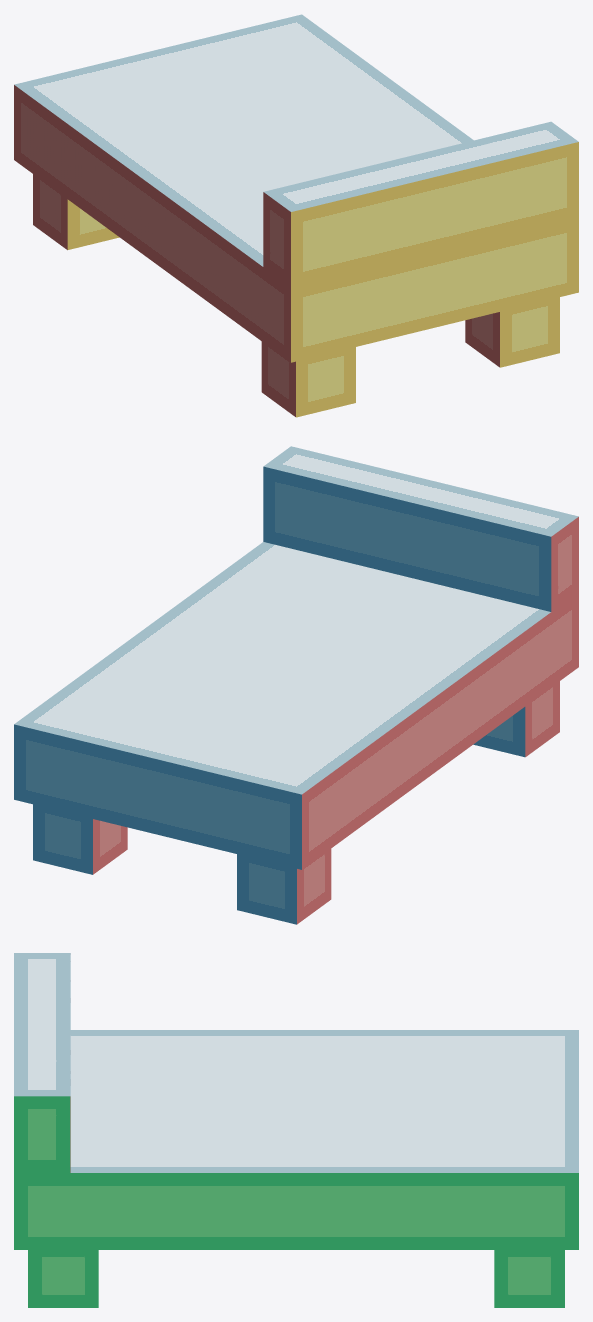
File: Bed.gltf
3 views of the same model, one above another, from view 1: azimuth 30°, elevation 25°; view 2: azimuth 150°, elevation 25°; view 3: azimuth 270°, elevation 25° (orthographic).
Visible parts, largest first — view 1: cube (×5); view 2: cube (×5); view 3: cube (×4).
Part boxes in pixels (x1=…): cube (×5): x1=14, y1=14, x2=578, y2=417; cube (×5): x1=14, y1=446, x2=578, y2=924; cube (×4): x1=14, y1=953, x2=578, y2=1307.
Size of the model in its own units: 1.5 by 1.06 by 2.5.
Materials: 1 (1 with a texture image).
